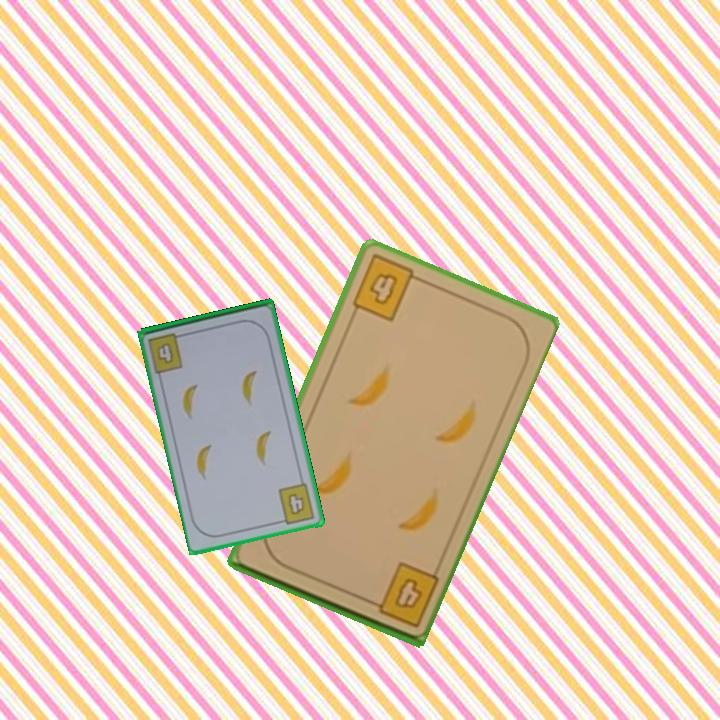4b: (362, 558, 441, 631), (348, 252, 425, 324), (274, 480, 318, 527), (144, 329, 188, 376)
